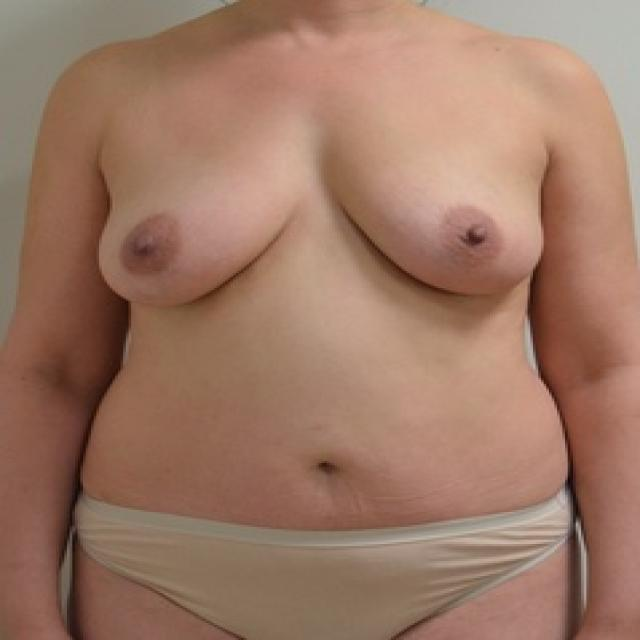Seno ileso: (88, 132, 311, 322), (317, 132, 555, 309)
